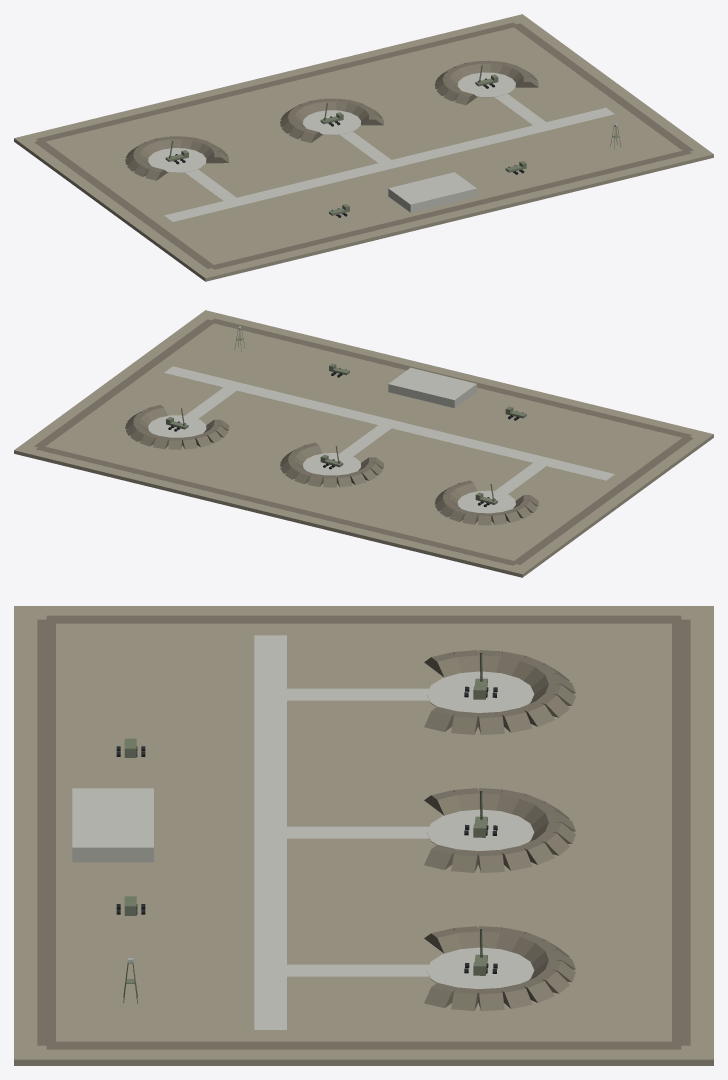
The model's file is irn_asbm_khalij_fars.glb.
3 views of the same model, one above another, from view 1: azimuth 30°, elevation 25°; view 2: azimuth 150°, elevation 25°; view 3: azimuth 270°, elevation 25° (orthographic). The views are drawn at different scales.
Parts seen in each view (by area): view 1: earth, earth_dark, concrete, drab; view 2: earth, earth_dark, concrete, drab; view 3: earth, earth_dark, concrete, drab.
Part boxes in pixels (x1,y1,x2,y2): earth: (14,14,713,281); earth_dark: (34,22,693,269); concrete: (148,72,614,221); drab: (165,66,620,215); earth: (14,310,713,577); earth_dark: (34,318,693,565); concrete: (148,366,614,513); drab: (166,328,526,504); earth: (14,606,713,1065); earth_dark: (37,615,690,1049); concrete: (72,635,534,1029); drab: (123,654,487,1003).
Bounding box in the file's own units: 10 × 0.4913 × 6.52.
